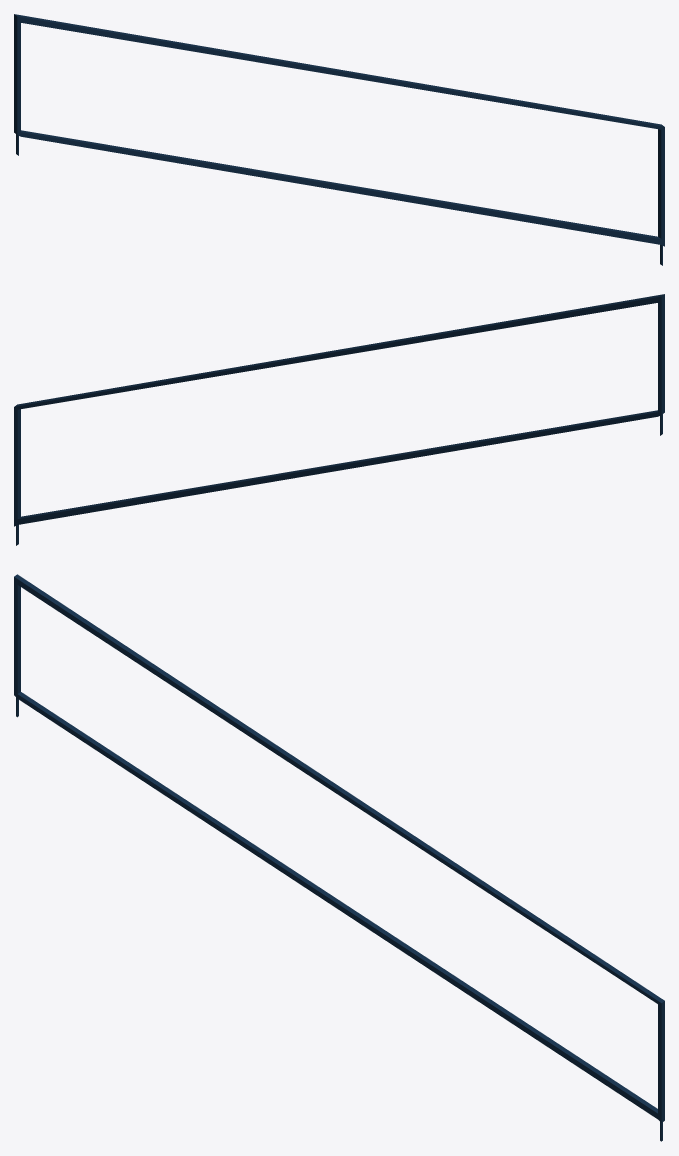
Rendered from StairsShorterRailing_RailingLow.FBX.
The picture shows the model from 3 angles, top to bottom: view 1: azimuth 30°, elevation 25°; view 2: azimuth 150°, elevation 25°; view 3: azimuth 330°, elevation 25°; orthographic projection.
Parts seen in each view (by area): view 1: StairsShorterRailing_RailingLow; view 2: StairsShorterRailing_RailingLow; view 3: StairsShorterRailing_RailingLow.
Boxes of the visible parts, x1,y1,x2,y2 form: StairsShorterRailing_RailingLow: [14, 14, 664, 265]; StairsShorterRailing_RailingLow: [14, 294, 664, 545]; StairsShorterRailing_RailingLow: [14, 574, 664, 1141].
Bounding box in the file's own units: 558 × 5 × 336.
